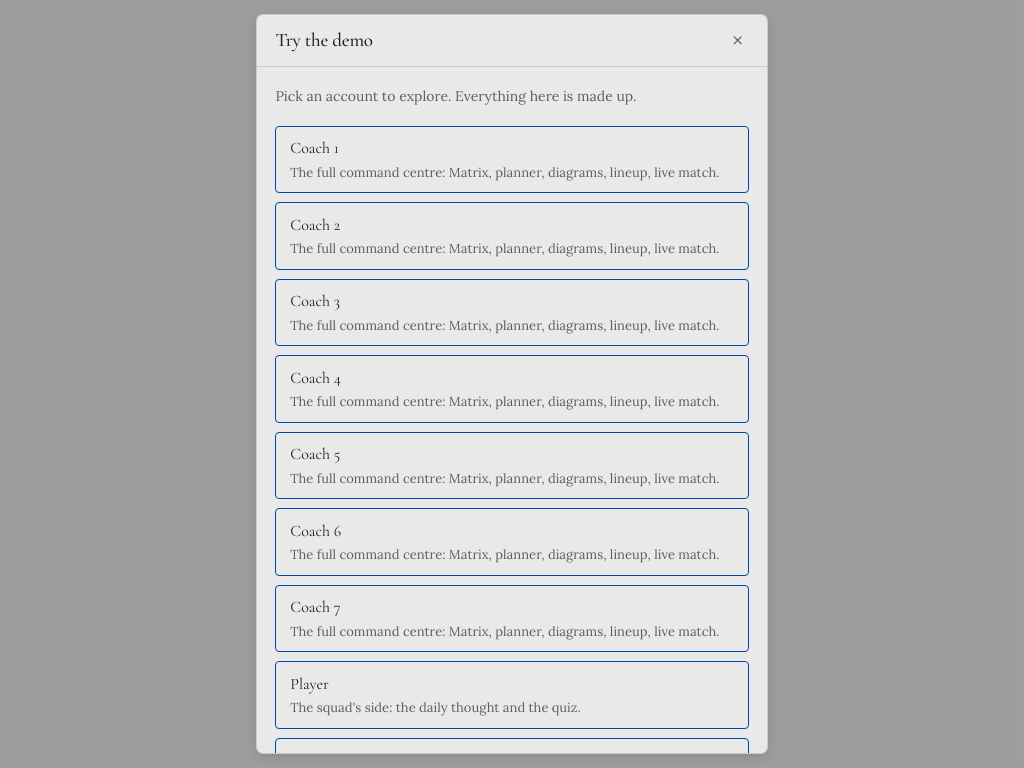
Scenario: the demo account picker › shows a failure inline and stays open
Click the button "Player The squad's side: the daily thought and the quiz.": x=310, y=684 [275,661,749,729]
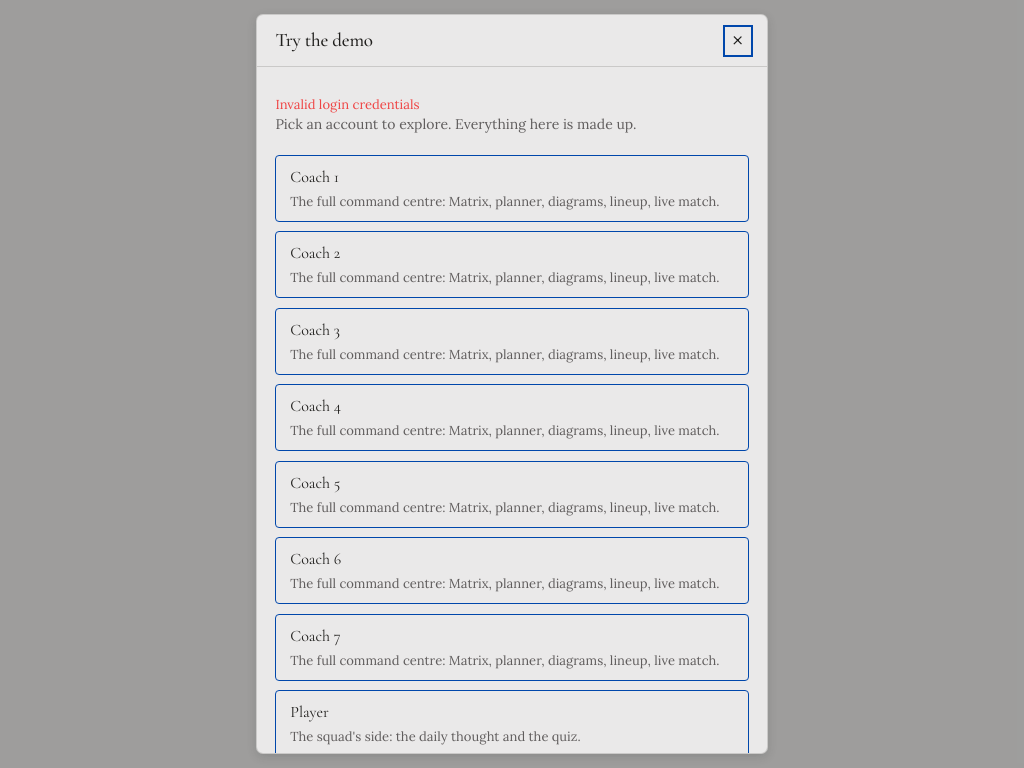
Expected: the message "Invalid login credentials" is shown, [275,96,420,113]
